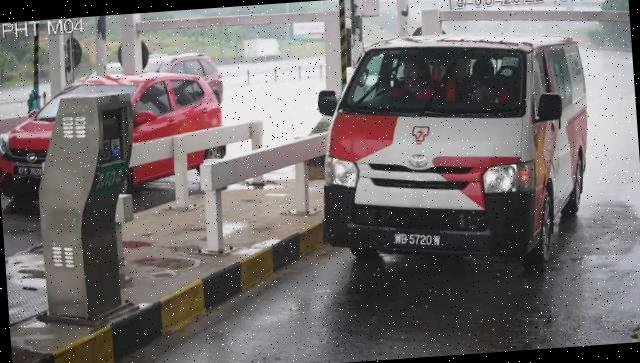License_Plate: (389, 226, 449, 256)
van: (311, 26, 597, 279)
